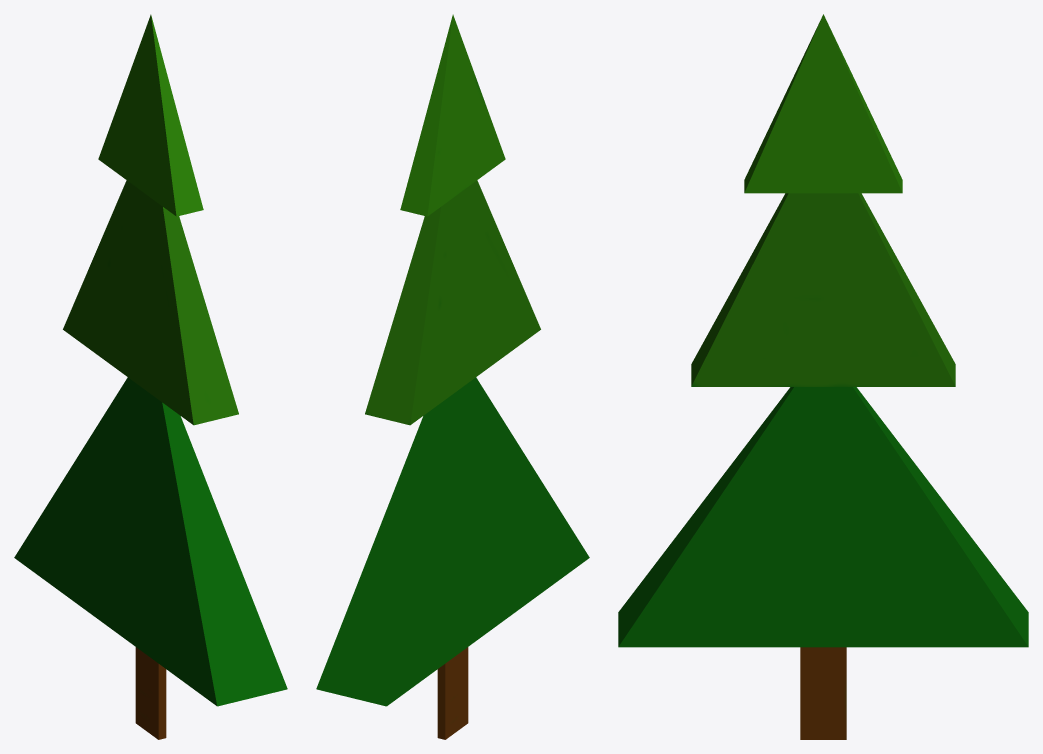
File: arvore.obj
3 views of the same model, side by side, from view 1: azimuth 30°, elevation 25°; view 2: azimuth 150°, elevation 25°; view 3: azimuth 270°, elevation 25° (orthographic).
Visible parts, largest first — view 1: Cube; view 2: Cube; view 3: Cube.
Boxes of the visible parts, x1,y1,x2,y2 form: Cube: (14, 14, 287, 739); Cube: (316, 14, 589, 739); Cube: (618, 14, 1028, 739).
Bounding box in the file's own units: 0.4109 × 3.99 × 2.05.
Materials: 1 (1 with a texture image).
